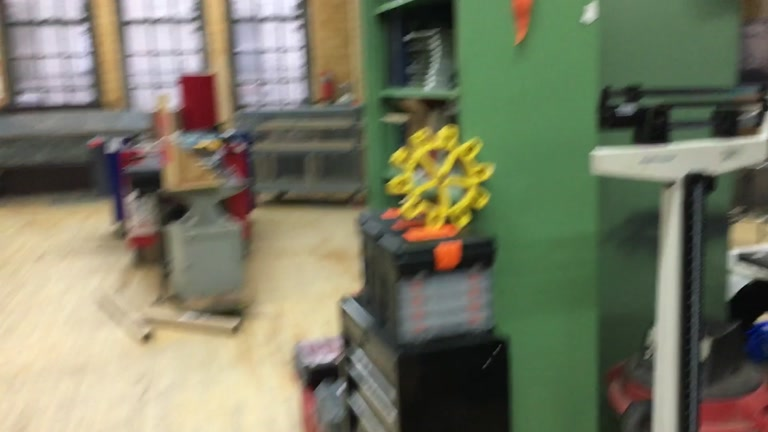gear: (388, 125, 497, 232)
